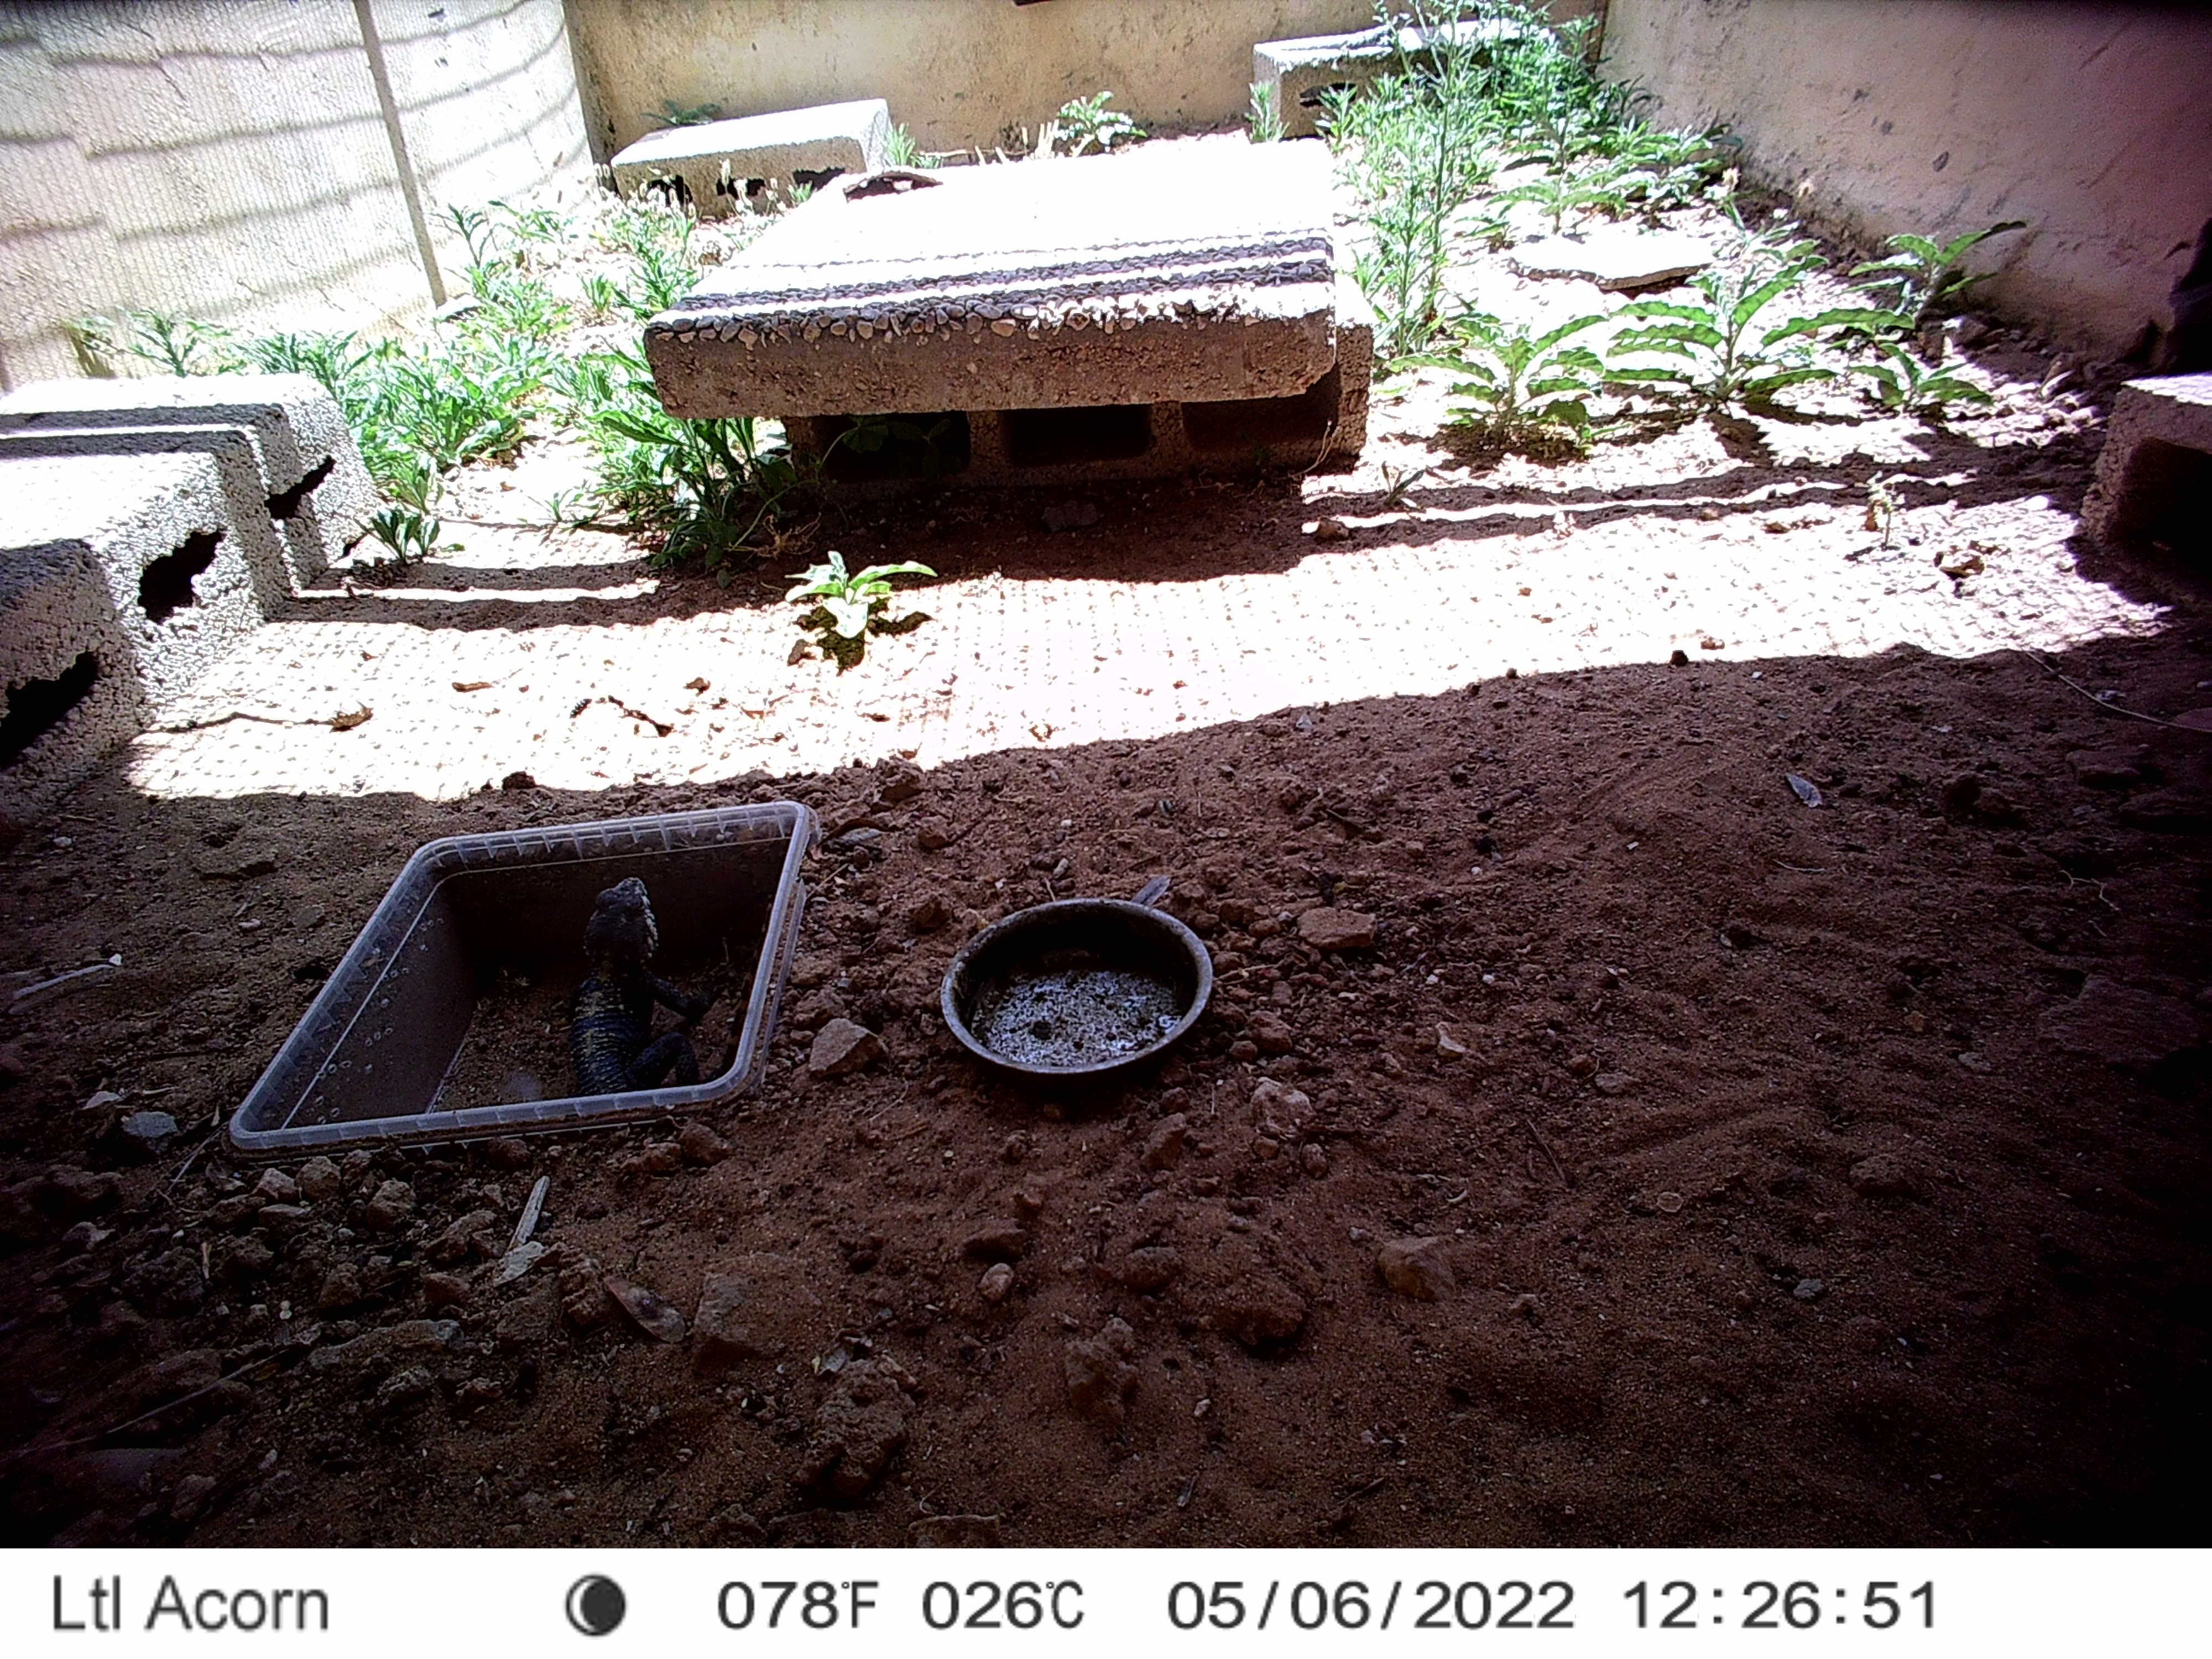lizard: (563, 882, 723, 1094), (1296, 14, 1414, 52)
